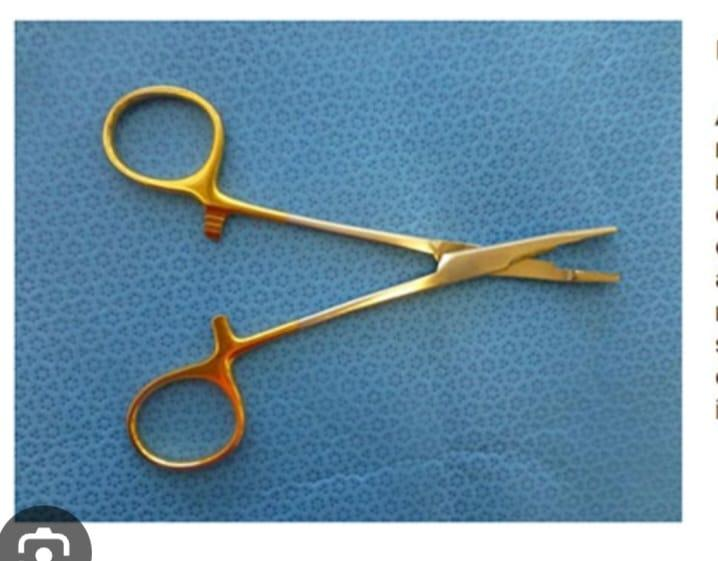Needle Holder: (97, 78, 631, 476)
